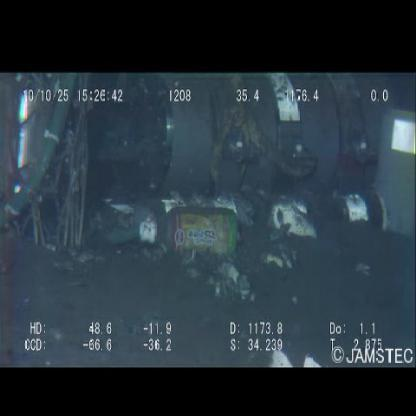Rov: (0, 74, 416, 249)
Rác: (135, 204, 243, 263)
